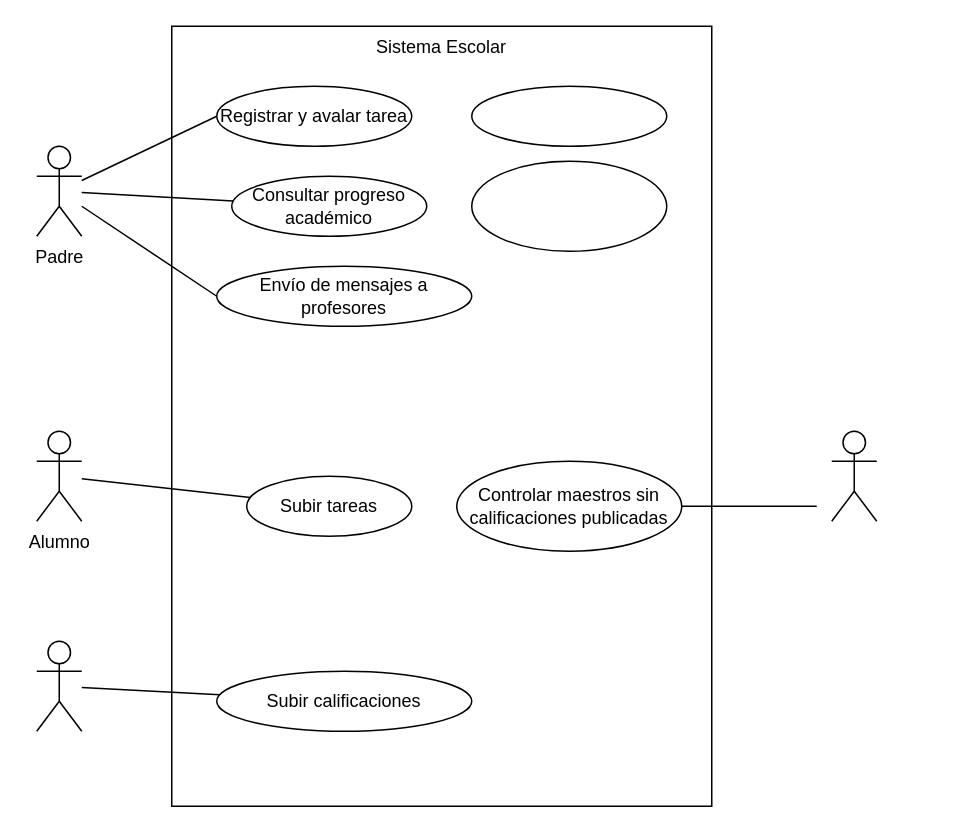
Image size: 968x833. Some labels were removed from this diagram. The shapes that lost their labels are listed below. From the top down, each one's box as (x1, y1, x2, y2) in pixels, then its label:
(470, 85, 667, 146): Notificar de bajo rendimiento a padre
(470, 160, 667, 251): Sincronización de calificaciones con el sistema escolar
(830, 430, 877, 521): Administrador Escolar
(35, 640, 82, 731): Profesor
